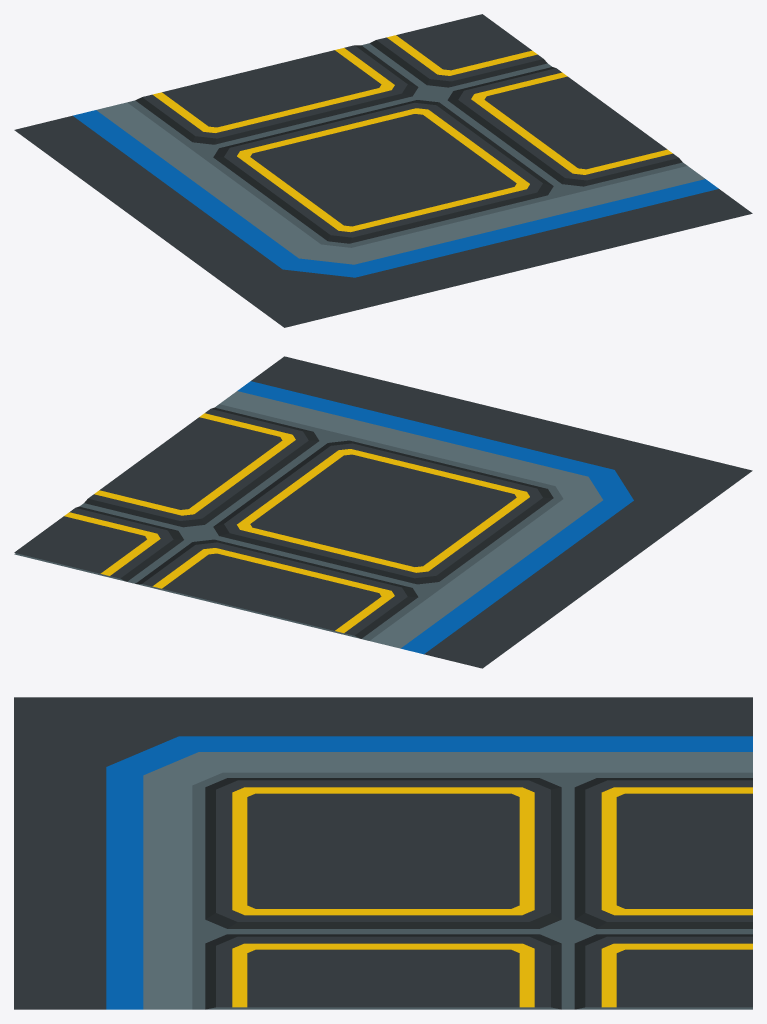
File: Floor_type_C_028.fbx
3 views of the same model, one above another, from view 1: azimuth 30°, elevation 25°; view 2: azimuth 150°, elevation 25°; view 3: azimuth 270°, elevation 25° (orthographic). The views are drawn at different scales.
Visible parts, largest first — view 1: Floor_type_C_028; view 2: Floor_type_C_028; view 3: Floor_type_C_028.
Boxes of the visible parts, x1,y1,x2,y2 form: Floor_type_C_028: [14, 14, 752, 327]; Floor_type_C_028: [14, 356, 752, 668]; Floor_type_C_028: [14, 697, 752, 1009].
Size of the model in its own units: 400 by 400 by 1.34.
